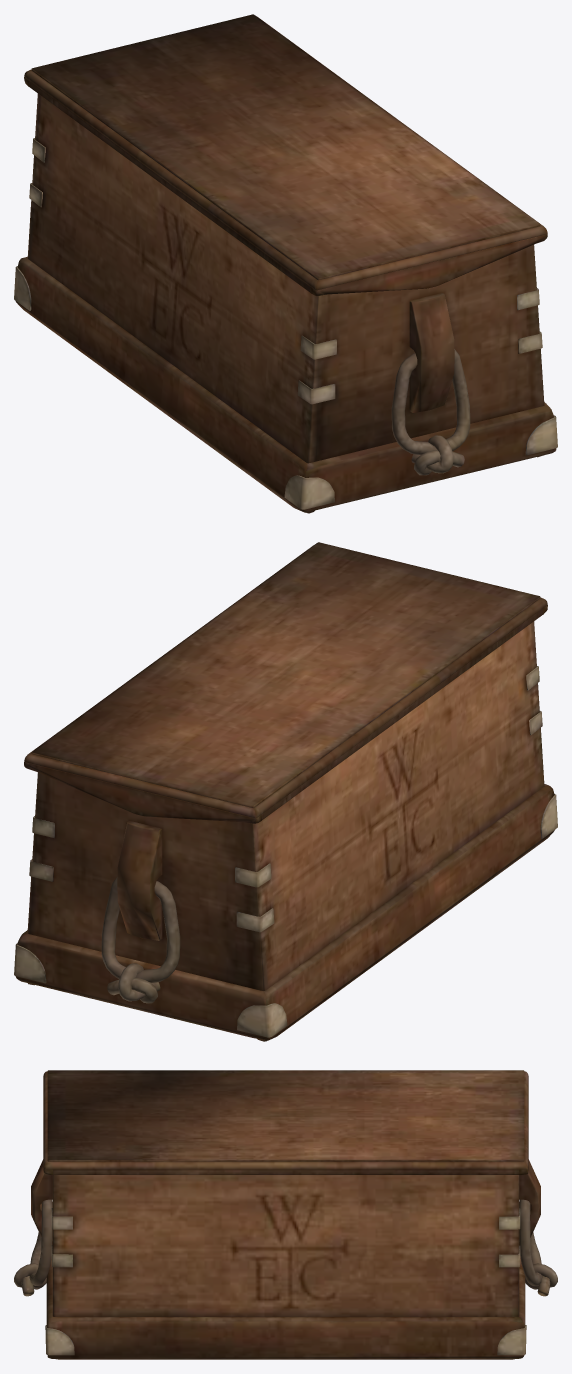
Rendered from wooden_crate_02.glb.
3 views of the same model, one above another, from view 1: azimuth 30°, elevation 25°; view 2: azimuth 150°, elevation 25°; view 3: azimuth 270°, elevation 25° (orthographic). The views are drawn at different scales.
Visible parts, largest first — view 1: wooden_crate_02_crate, wooden_crate_02_lid; view 2: wooden_crate_02_crate, wooden_crate_02_lid; view 3: wooden_crate_02_crate, wooden_crate_02_lid.
Part boxes in pixels (<box>): wooden_crate_02_crate: <box>14,93,557,513</box>; wooden_crate_02_lid: <box>24,14,547,296</box>; wooden_crate_02_crate: <box>14,621,557,1041</box>; wooden_crate_02_lid: <box>24,542,547,823</box>; wooden_crate_02_crate: <box>14,1159,557,1359</box>; wooden_crate_02_lid: <box>43,1070,528,1174</box>.
Bounding box in the file's own units: 0.5291 × 0.4639 × 1.17.
1 material, 1 textured.
